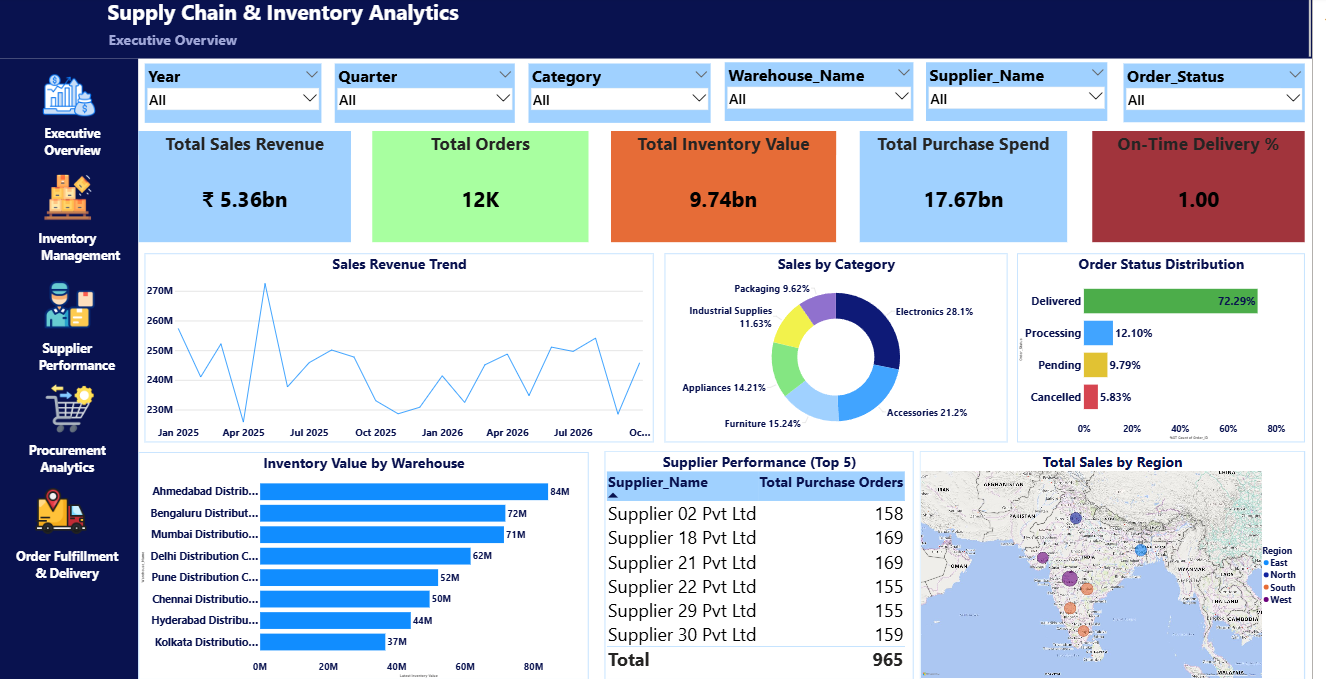

This screenshot's page, from the dashboard's own definition file:
{"tool":"powerbi","page":{"name":"Page 1","canvas":[5000,2600],"ordinal":0},"visuals":[{"type":"textbox","box":[0,0,5000.8,238],"z":0},{"type":"textbox","box":[0,237.9,540.3,2358.9],"z":1000},{"type":"slicer","fields":{"Values":["Dim_Date.Year"]},"box":[563.1,254.4,671.5,225.2],"z":2000},{"type":"slicer","fields":{"Values":["Dim_Date.Quarter"]},"box":[1288.8,254.4,684,225.2],"z":3000},{"type":"slicer","fields":{"Values":["Dim_Products.Category"]},"box":[2022.9,254.4,692.4,225.2],"z":4000},{"type":"slicer","fields":{"Values":["Dim_Warehouses.Warehouse_Name"]},"box":[2768.8,251.7,717.1,223.2],"z":5000},{"type":"slicer","fields":{"Values":["Dim_Suppliers.Supplier_Name"]},"box":[3533.4,251.7,688.6,223.2],"z":6000},{"type":"slicer","fields":{"Values":["Fact_SalesOrders.Order_Status"]},"box":[4283.8,256.5,688.6,223.2],"z":7000},{"type":"cardVisual","title":"Total Sales Revenue","fields":{"Data":["Fact_SalesOrderDetails.Total Sales Revenue"]},"box":[541.4,512.9,807.4,422.7],"z":9000},{"type":"cardVisual","title":"Total Orders","fields":{"Data":["Fact_SalesOrders.Total Orders"]},"box":[1429.5,512.9,821.6,422.7],"z":10000},{"type":"cardVisual","title":"Total Inventory Value","fields":{"Data":["Fact_InventorySnapshots.Total Inventory Value"]},"box":[2336.6,512.9,854.9,422.7],"z":11000},{"type":"cardVisual","title":"Total Purchase Spend","fields":{"Data":["Fact_PurchaseOrderDetails.Total Purchase Spend"]},"box":[3281.7,512.9,788.4,422.7],"z":12000},{"type":"cardVisual","title":"On-Time Delivery %","fields":{"Data":["Fact_Shipments.On-Time Delivery %"]},"box":[4165.1,512.9,807.4,422.7],"z":13000},{"type":"lineChart","title":"Sales Revenue Trend","fields":{"Y":["Fact_SalesOrderDetails.Total Sales Revenue"],"Category":["Dim_Date.Month_Year.Variation.Date Hierarchy.Year","Dim_Date.Month_Year.Variation.Date Hierarchy.Month"]},"box":[565.2,978.3,1932.9,717.1],"z":14000},{"type":"donutChart","title":"Sales by Category","fields":{"Y":["Fact_SalesOrderDetails.Total Sales Revenue"],"Category":["Dim_Products.Category"]},"box":[2540.9,978.3,1301.3,717.1],"z":15000},{"type":"barChart","title":"Order Status Distribution","fields":{"Category":["Fact_SalesOrders.Order_Status"],"Y":["CountNonNull(Fact_SalesOrders.Order_ID)"]},"box":[3880.1,978.3,1092.3,717.1],"z":16000},{"type":"barChart","title":"Inventory Value by Warehouse","fields":{"Category":["Dim_Warehouses.Warehouse_Name"],"Y":["Fact_InventorySnapshots.Latest Inventory Value"]},"box":[541.4,1733.5,1709.7,864.4],"z":17000},{"type":"tableEx","title":"Supplier Performance (Top 5)","fields":{"Values":["Dim_Suppliers.Supplier_Name","Fact_PurchaseOrders.Total Purchase Orders"]},"box":[2312.9,1728.7,1173.1,869.1],"z":18000},{"type":"map","title":"Total Sales by Region","fields":{"Size":["Fact_SalesOrderDetails.Total Sales Revenue"],"Series":["Dim_Customers.Region"],"Category":["Dim_Customers.State"]},"box":[3509.7,1728.7,1462.8,869.1],"z":19000},{"type":"image","box":[171,275.5,213.7,204.2],"z":19001},{"type":"image","box":[123.5,674.4,299.2,180.5],"z":19002},{"type":"image","box":[137.7,1472.3,285,190],"z":19003},{"type":"image","box":[137.7,1078.1,285,190],"z":19004},{"type":"image","box":[109.2,1857,275.5,199.5],"z":19005}]}

Visuals, with their boxes on the page's 5000x2600 design canvas (x1, y1, x2, y2). These are canvas units, not pixel positions in the 1326x679 screenshot, which may show the page scaled, cropped or inside an application window:
textbox: region(0, 0, 5001, 238)
textbox: region(0, 238, 540, 2597)
slicer - Dim_Date.Year: region(563, 254, 1235, 480)
slicer - Dim_Date.Quarter: region(1289, 254, 1973, 480)
slicer - Dim_Products.Category: region(2023, 254, 2715, 480)
slicer - Dim_Warehouses.Warehouse_Name: region(2769, 252, 3486, 475)
slicer - Dim_Suppliers.Supplier_Name: region(3533, 252, 4222, 475)
slicer - Fact_SalesOrders.Order_Status: region(4284, 256, 4972, 480)
"Total Sales Revenue" cardVisual: region(541, 513, 1349, 936)
"Total Orders" cardVisual: region(1430, 513, 2251, 936)
"Total Inventory Value" cardVisual: region(2337, 513, 3192, 936)
"Total Purchase Spend" cardVisual: region(3282, 513, 4070, 936)
"On-Time Delivery %" cardVisual: region(4165, 513, 4972, 936)
"Sales Revenue Trend" lineChart: region(565, 978, 2498, 1695)
"Sales by Category" donutChart: region(2541, 978, 3842, 1695)
"Order Status Distribution" barChart: region(3880, 978, 4972, 1695)
"Inventory Value by Warehouse" barChart: region(541, 1734, 2251, 2598)
"Supplier Performance (Top 5)" tableEx: region(2313, 1729, 3486, 2598)
"Total Sales by Region" map: region(3510, 1729, 4972, 2598)
image: region(171, 276, 385, 480)
image: region(124, 674, 423, 855)
image: region(138, 1472, 423, 1662)
image: region(138, 1078, 423, 1268)
image: region(109, 1857, 385, 2056)
